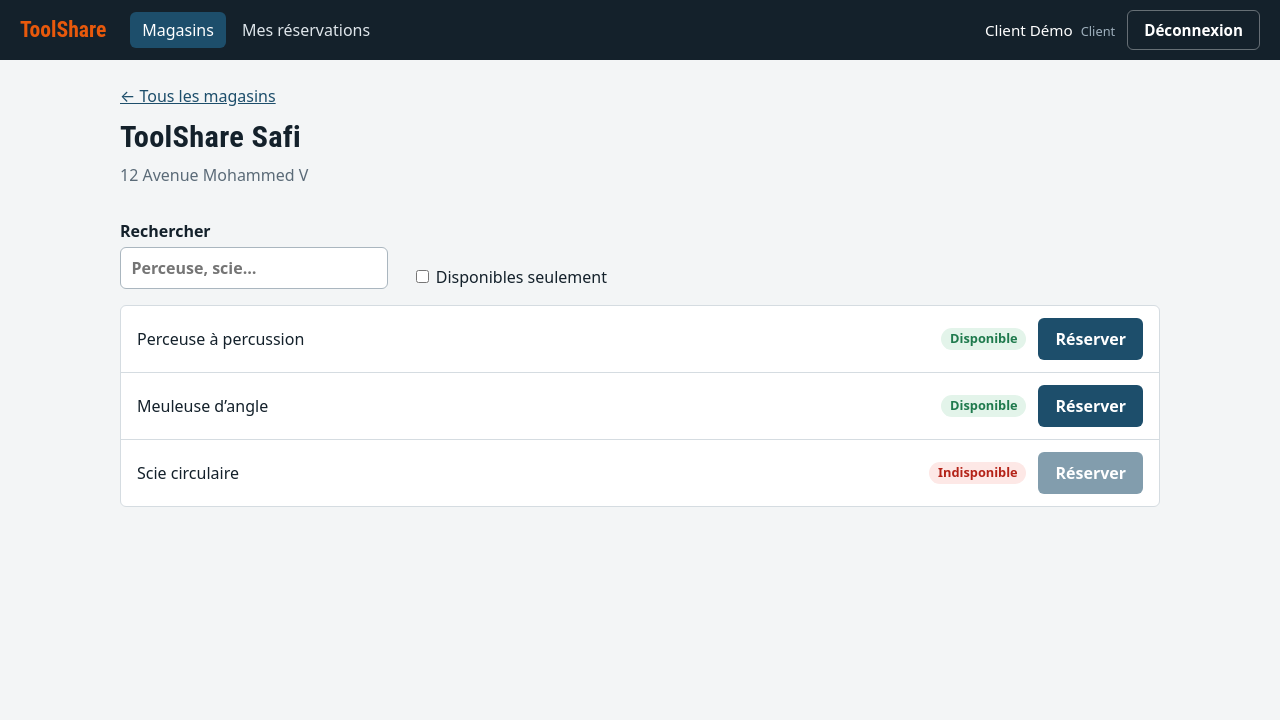
Test case: reservation › warns about a conflict as soon as the slot is known to be taken
Check: the heading "ToolShare Safi" is shown, box top-left (120, 120), bottom-right (308, 155)
Click the button "Réserver" in the row of "Meuleuse d’angle" at [1091, 406], box top-left (1038, 385), bottom-right (1143, 427)
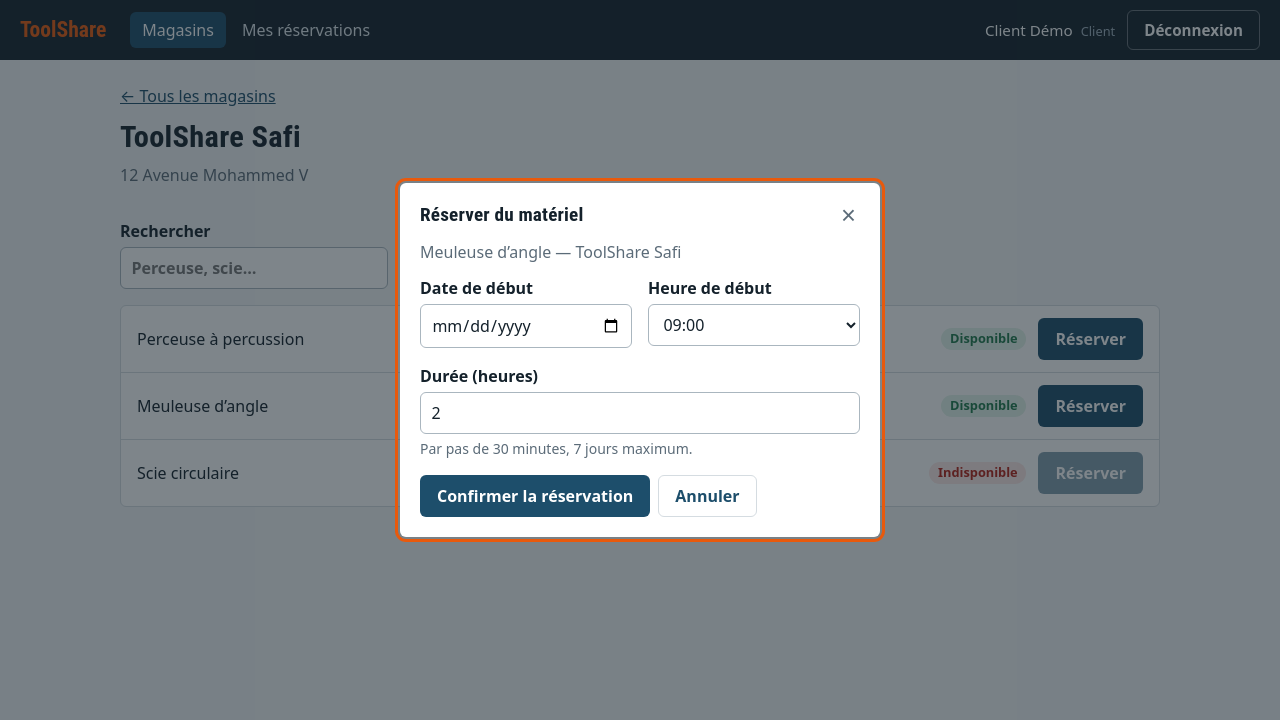
Type "2031-03-14" into the date field labelled "Date de début" at [526, 326], box top-left (420, 304), bottom-right (632, 348)
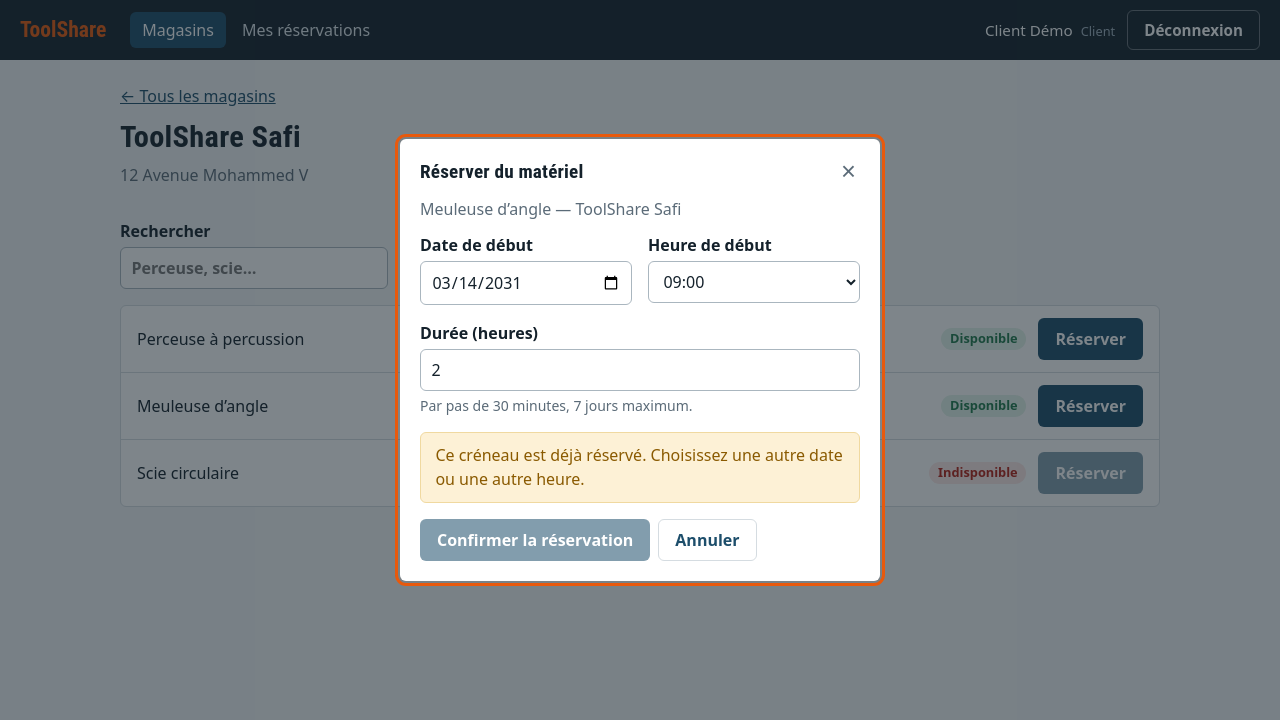
Check: the text "déjà réservé" is shown, box top-left (435, 444), bottom-right (843, 490)
Check: the button "Confirmer la réservation" is disabled, box top-left (420, 519), bottom-right (650, 561)
